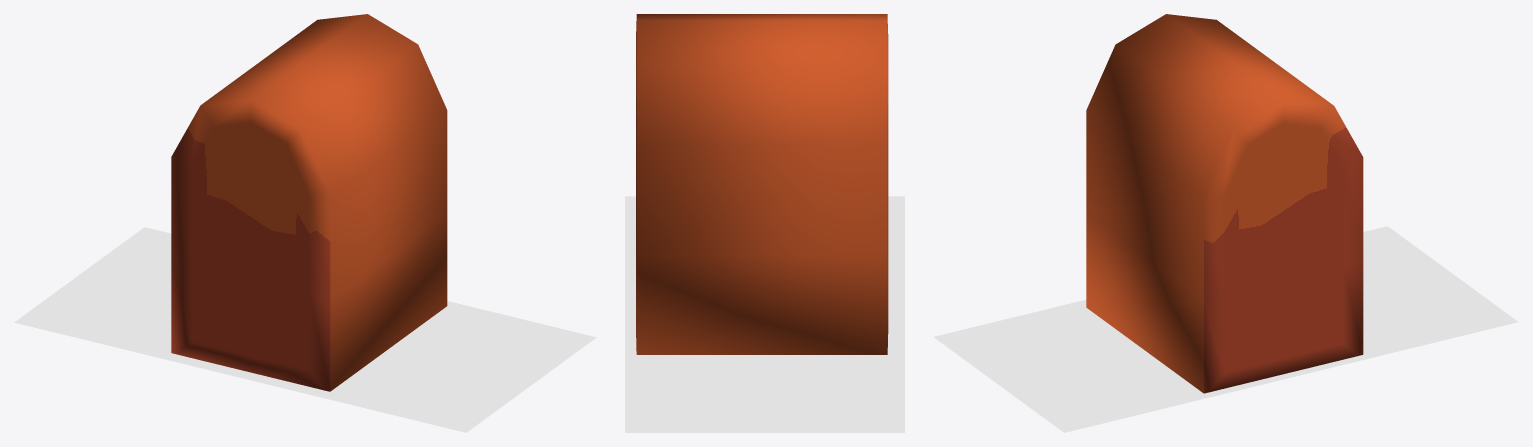
Rendered from NormalContent.fbx.
The picture shows the model from 3 angles, left to right: view 1: azimuth 30°, elevation 25°; view 2: azimuth 150°, elevation 25°; view 3: azimuth 270°, elevation 25°; orthographic projection. The views are drawn at different scales.
Visible parts, largest first — view 1: BasicObstacle, Shadow; view 2: BasicObstacle, Shadow; view 3: BasicObstacle, Shadow.
Boxes of the visible parts, x1=… form: BasicObstacle: x1=171, y1=14, x2=447, y2=391; Shadow: x1=14, y1=227, x2=596, y2=432; BasicObstacle: x1=636, y1=14, x2=888, y2=354; Shadow: x1=625, y1=196, x2=904, y2=432; BasicObstacle: x1=1086, y1=14, x2=1363, y2=393; Shadow: x1=933, y1=226, x2=1518, y2=432.
Size of the model in its own units: 1.27 by 0.7985 by 1.52.
